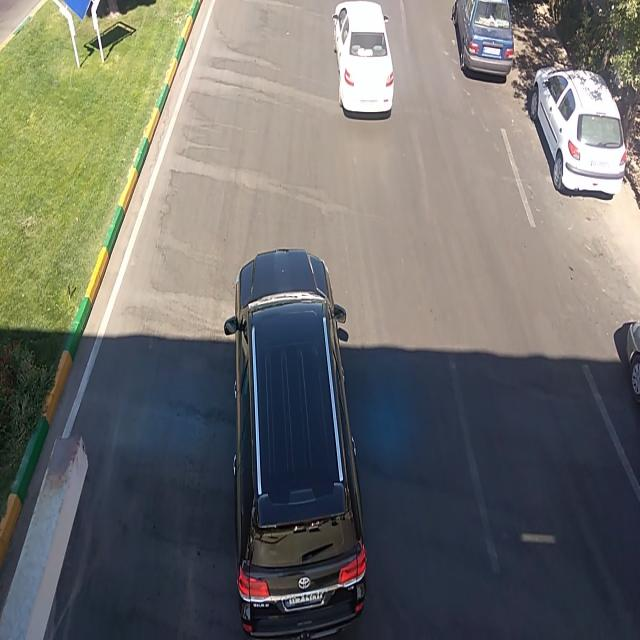car: (223, 246, 367, 632), (530, 66, 626, 204), (333, 0, 397, 124), (456, 4, 514, 78)
